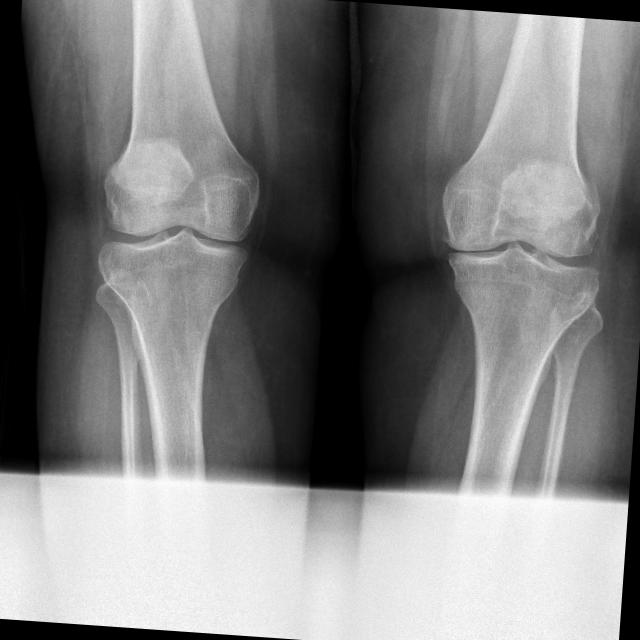Knee: (92, 146, 266, 316), (429, 167, 606, 327)
